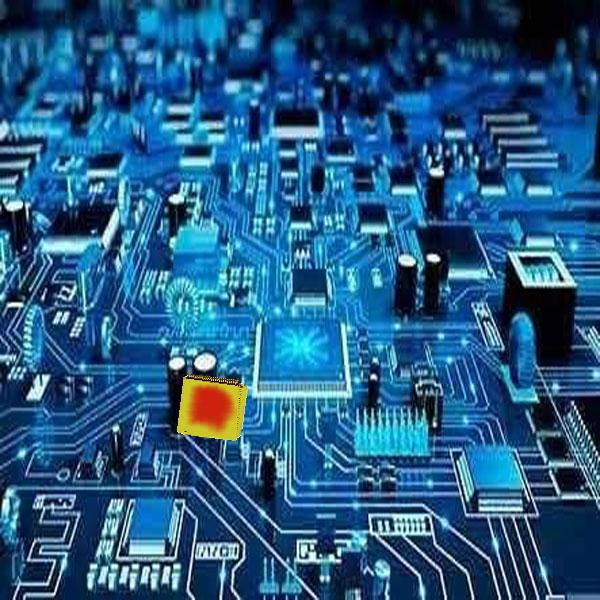componente_T: (172, 369, 251, 444)
